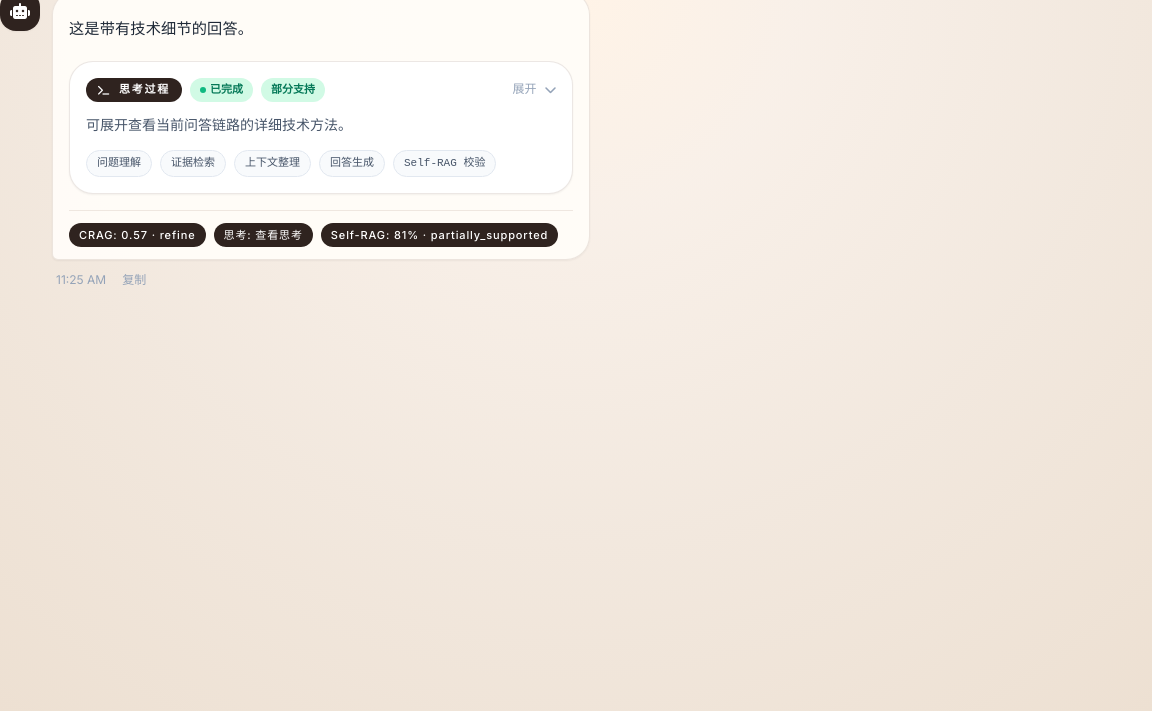
MessageBubble › opens thinking details from CRAG and Self-RAG pills
Expected: the button with test id "self-rag-pill" shows "81% · partially_supported", [321,223,558,247]
Expected: the button with test id "thinking-pill" shows "查看思考", [214,223,313,247]
Click the button with test id "crag-pill" at (137, 235), box [69,223,206,247]
(page scrolled)
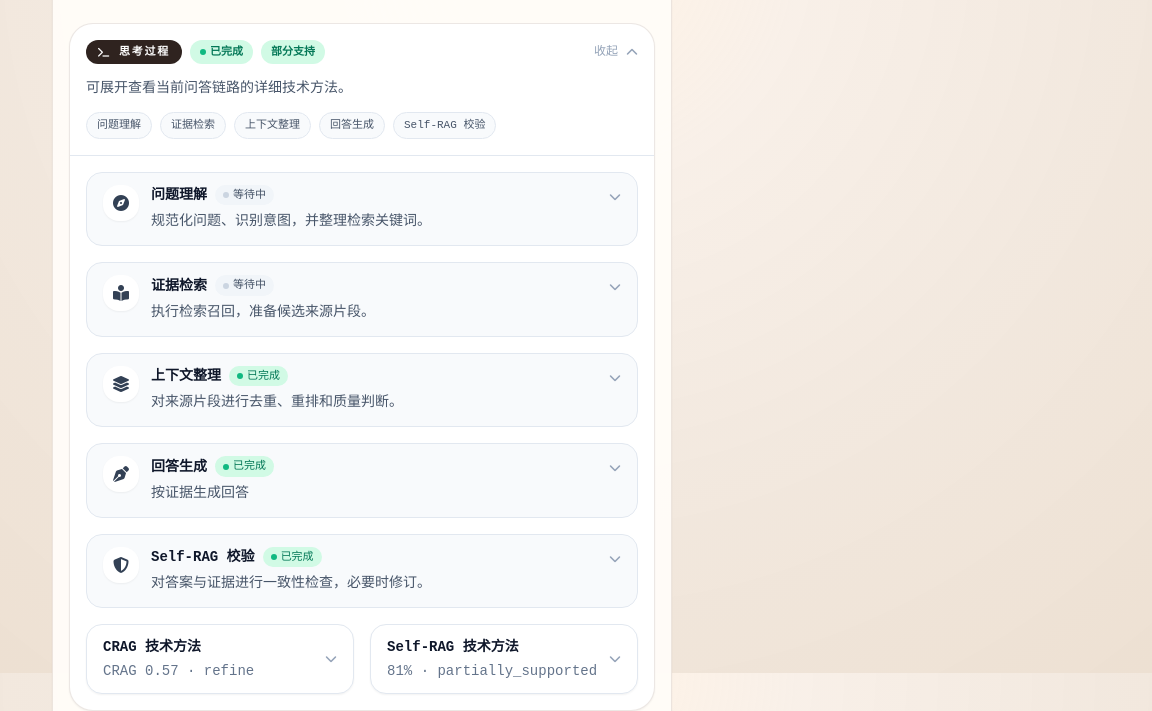
Result: the button with test id "thinking-process-toggle" shows "收起" at [70,24,654,155]
Result: the element with test id "self-rag-method-card" shows "Self-RAG 技术方法" at [387,639,519,655]
